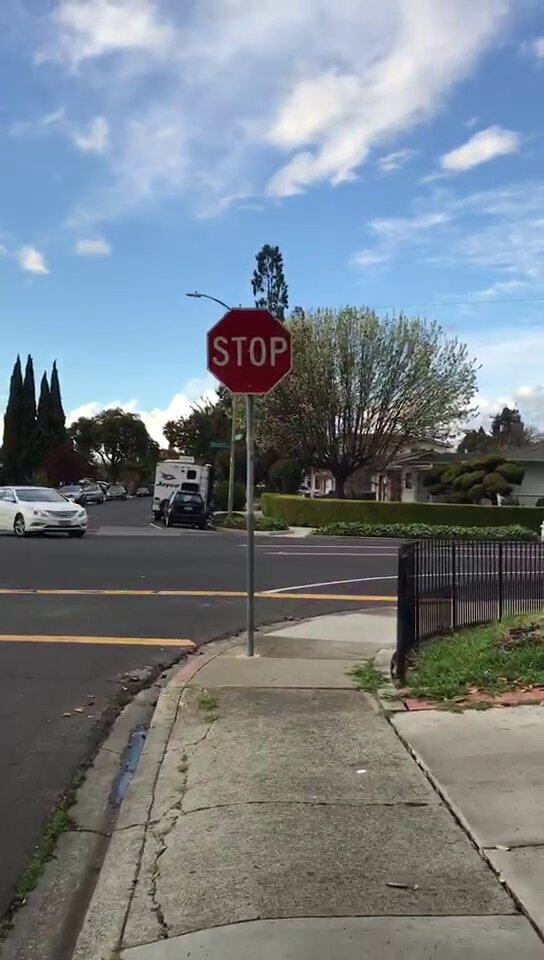stop_sign: (209, 310, 293, 394)
